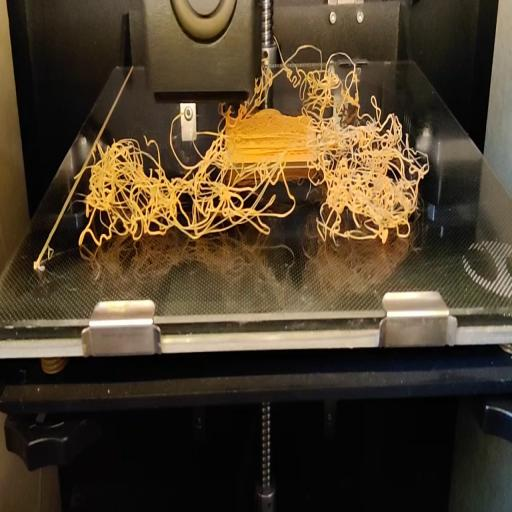spaghetti: (73, 99, 432, 251), (262, 28, 359, 98)
